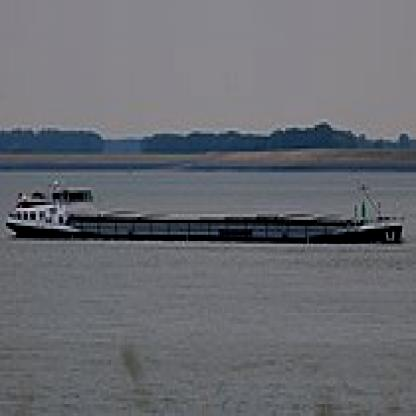Tanker: (6, 172, 410, 250)
